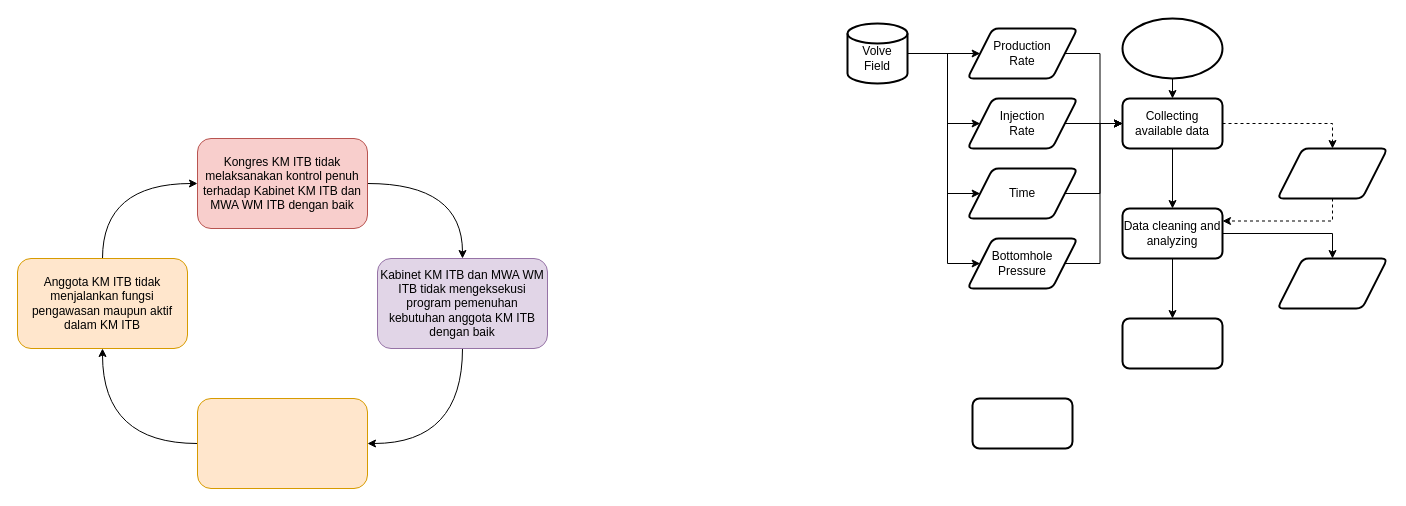
The diagram is 1406 pixels wide and 506 high, and some of its shapes have lost their labels. The shapes that lost their labels are listed below. From the top down, each one's centre as x and y in pixels, then its label:
At point (1172, 48): "Start".
At point (1332, 173): "Raw Data".
At point (1332, 283): "Proper Data".
At point (1172, 343): "Data initialization".
At point (282, 443): "Anggota KM ITB tidak merasakan relevansi dari adanya sistem KM ITB".
